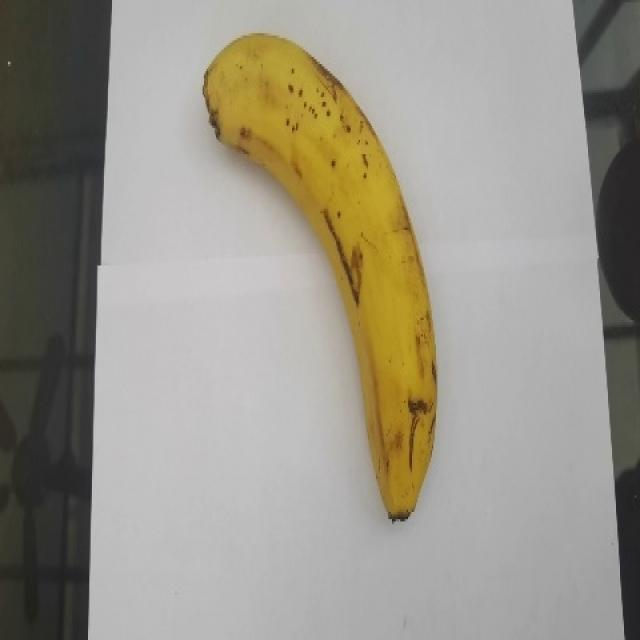Banana: (201, 31, 438, 523)
